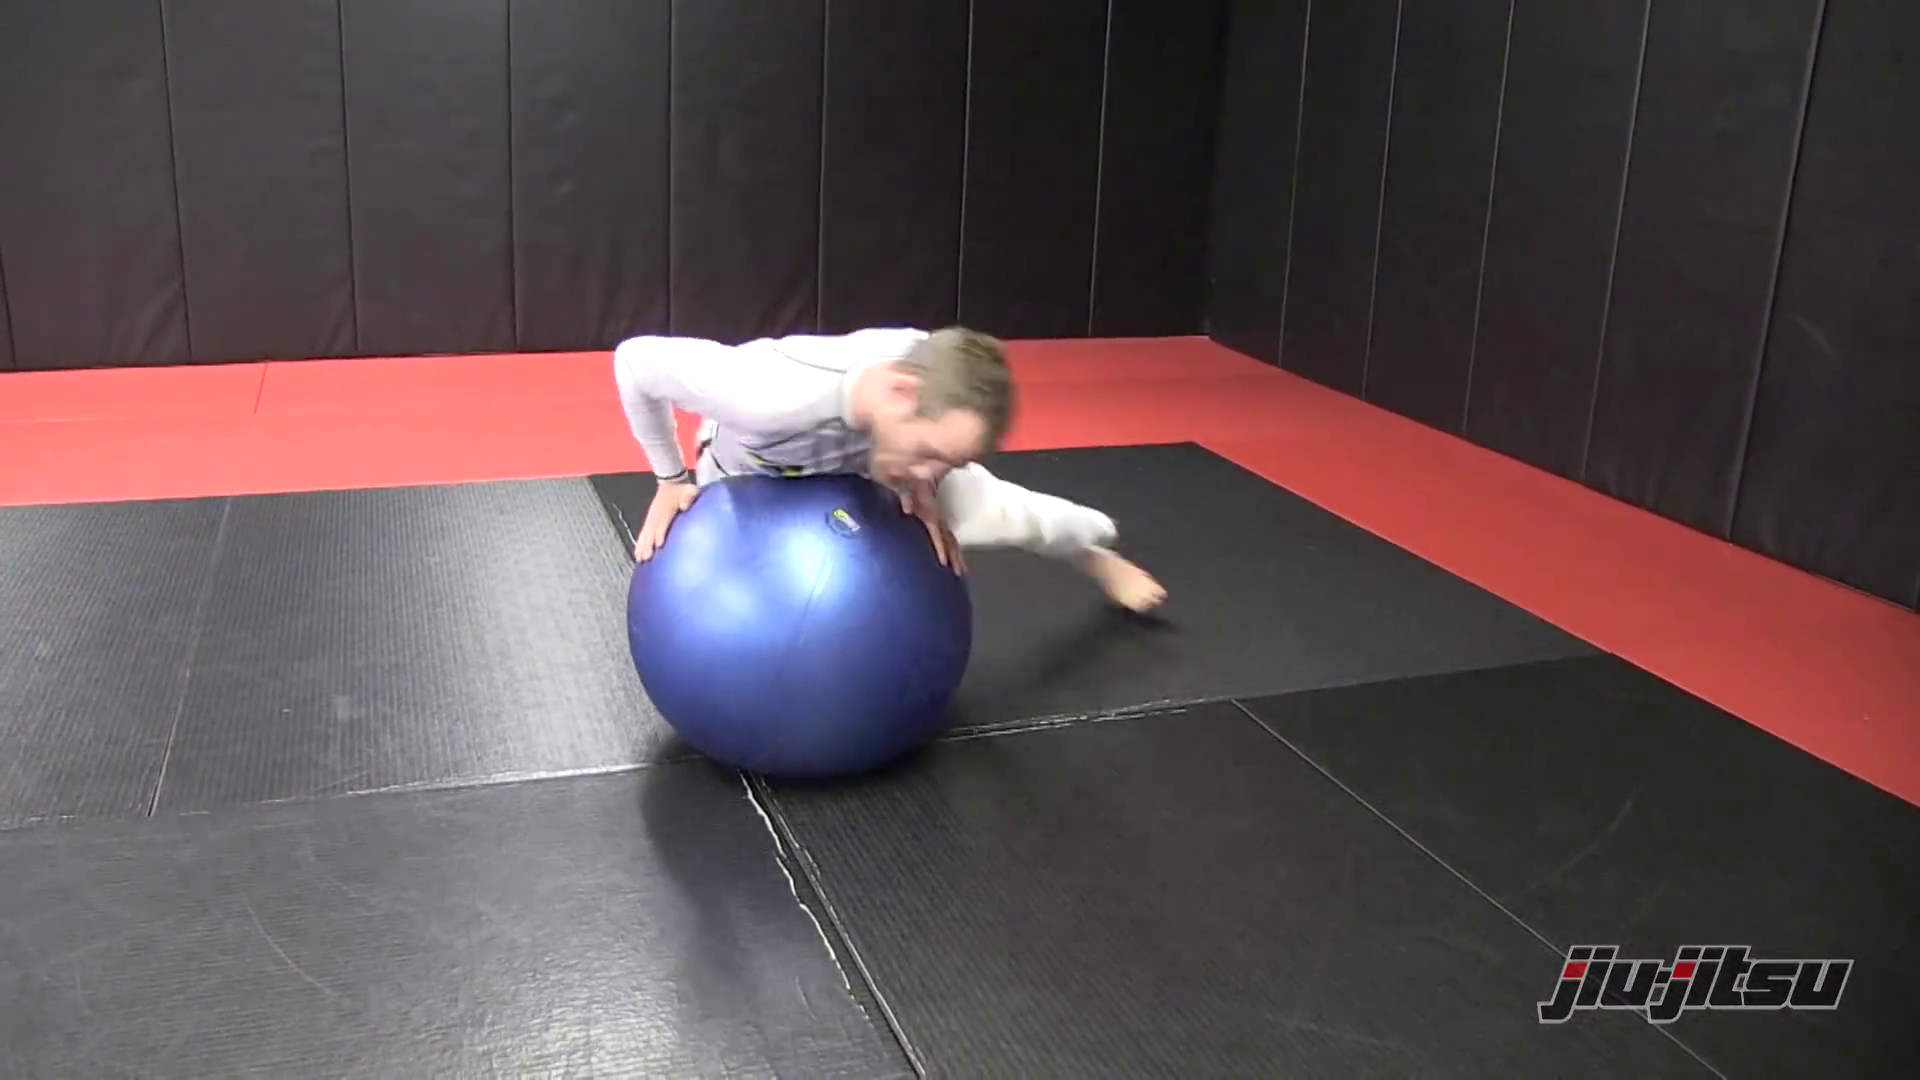yogaball: (607, 462, 1007, 800)
